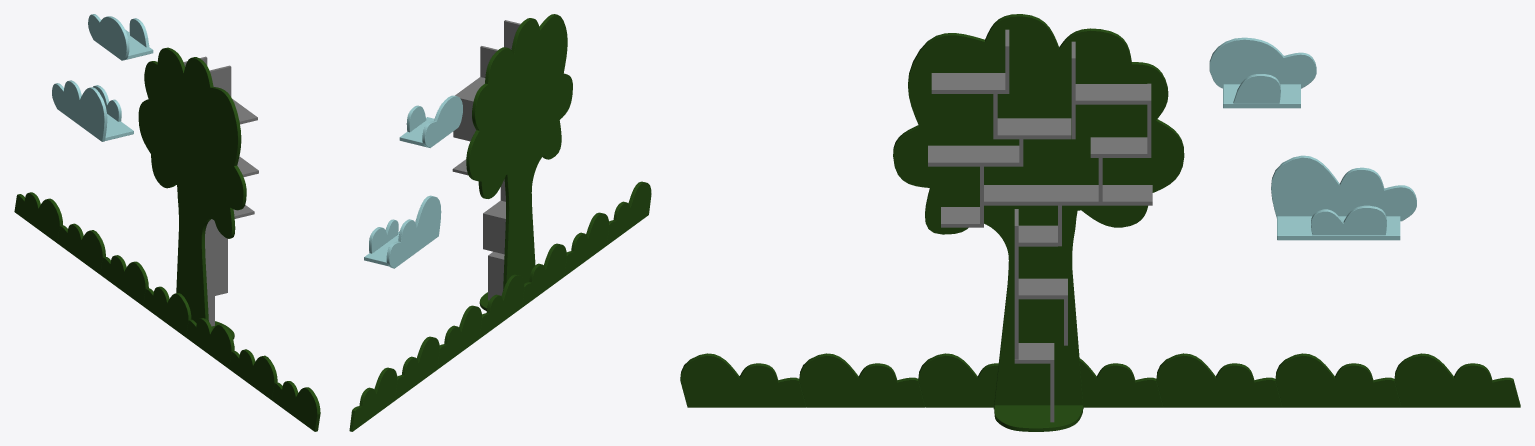
The model's file is polki.FBX.
The picture shows the model from 3 angles, left to right: view 1: azimuth 30°, elevation 25°; view 2: azimuth 150°, elevation 25°; view 3: azimuth 270°, elevation 25°; orthographic projection. The views are drawn at different scales.
Parts seen in each view (by area): view 1: Line1789529996, Line1789530000, 2, 1, Line1789530087, Line1789530082, Line1789530083, Line1789530086, Line1789530081, Line1789530085, Line1789530084; view 2: Line1789529996, Line1789530000, 2, 1, Line1789530081, Line1789530086, Line1789530083, Line1789530087, Line1789530082, Line1789530084, Line1789530085; view 3: Line1789529996, Line1789530000, 2, 1, Line1789530081, Line1789530086, Line1789530087, Line1789530083, Line1789530082, Line1789530085, Line1789530084.
Boxes of the visible parts, x1=… form: Line1789529996: x1=138, y1=47, x2=246, y2=339; Line1789530000: x1=183, y1=56, x2=258, y2=326; 2: x1=52, y1=80, x2=133, y2=141; 1: x1=88, y1=14, x2=153, y2=60; Line1789530087: x1=272, y1=381, x2=320, y2=431; Line1789530082: x1=57, y1=223, x2=105, y2=274; Line1789530083: x1=100, y1=255, x2=148, y2=305; Line1789530086: x1=229, y1=349, x2=277, y2=400; Line1789530081: x1=14, y1=192, x2=62, y2=242; Line1789530085: x1=186, y1=318, x2=234, y2=368; Line1789530084: x1=143, y1=286, x2=191, y2=337; Line1789529996: x1=466, y1=14, x2=572, y2=310; Line1789530000: x1=452, y1=20, x2=520, y2=300; 2: x1=364, y1=195, x2=441, y2=268; 1: x1=399, y1=95, x2=462, y2=147; Line1789530081: x1=349, y1=367, x2=397, y2=431; Line1789530086: x1=564, y1=212, x2=608, y2=276; Line1789530083: x1=437, y1=305, x2=481, y2=369; Line1789530087: x1=606, y1=181, x2=651, y2=245; Line1789530082: x1=395, y1=336, x2=439, y2=400; Line1789530084: x1=479, y1=274, x2=524, y2=338; Line1789530085: x1=522, y1=243, x2=566, y2=307; Line1789529996: x1=893, y1=14, x2=1184, y2=431; Line1789530000: x1=928, y1=29, x2=1152, y2=422; 2: x1=1271, y1=155, x2=1416, y2=240; 1: x1=1209, y1=37, x2=1316, y2=108; Line1789530081: x1=1394, y1=353, x2=1520, y2=407; Line1789530086: x1=799, y1=353, x2=925, y2=407; Line1789530087: x1=680, y1=353, x2=806, y2=407; Line1789530083: x1=1156, y1=353, x2=1282, y2=407; Line1789530082: x1=1275, y1=353, x2=1401, y2=407; Line1789530085: x1=918, y1=353, x2=998, y2=407; Line1789530084: x1=1079, y1=358, x2=1163, y2=407.
Size of the model in its own units: 283 by 1931 by 3738.
